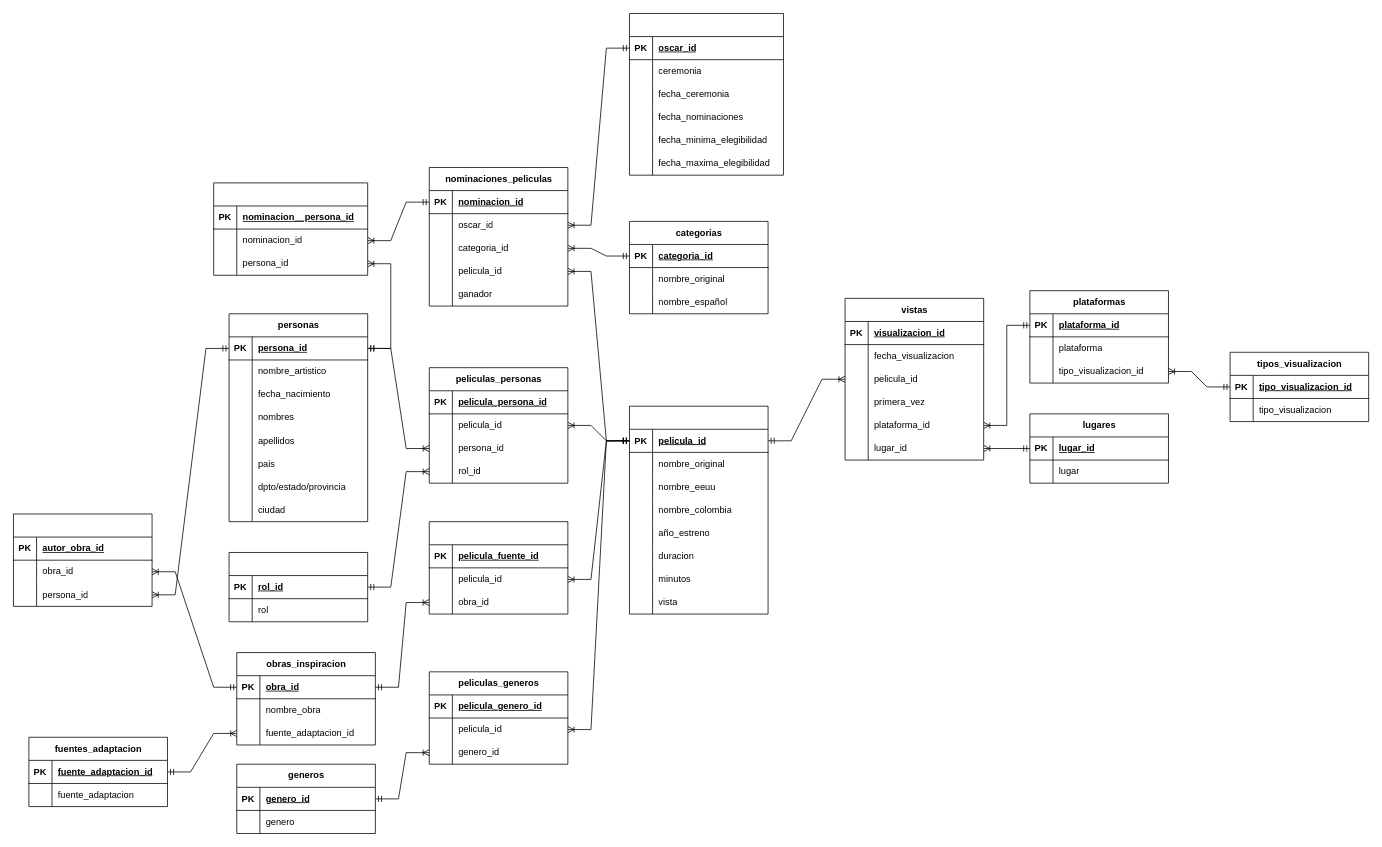
Some shapes in this 1382 by 847 pixel diagram are drawn without their labels. Here are the shapes that lost their labels. From the top down, the box of each, then its label:
(629, 13, 783, 175): oscars
(213, 182, 368, 275): nominaciones_personas
(629, 405, 768, 614): peliculas
(13, 513, 152, 606): autores_obras
(429, 521, 568, 614): peliculas_fuentes
(228, 552, 368, 622): roles
